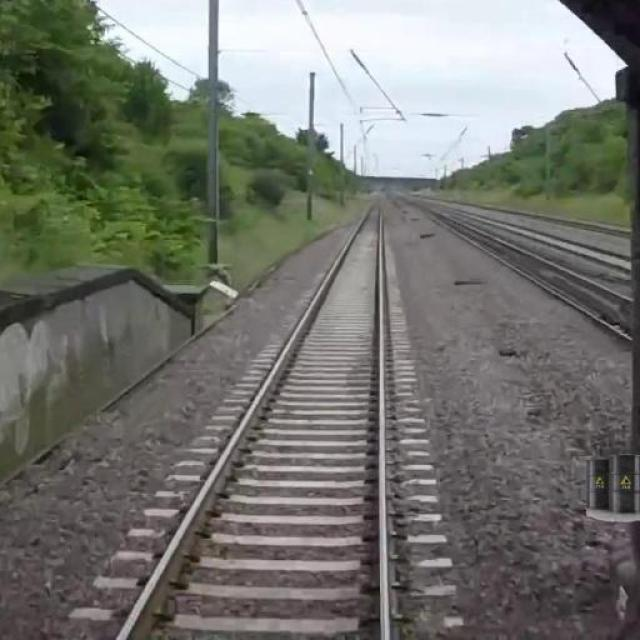Other_objects: (580, 454, 640, 528)
